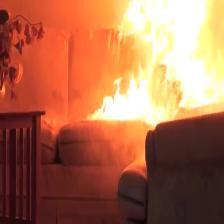fire: (86, 0, 224, 128)
